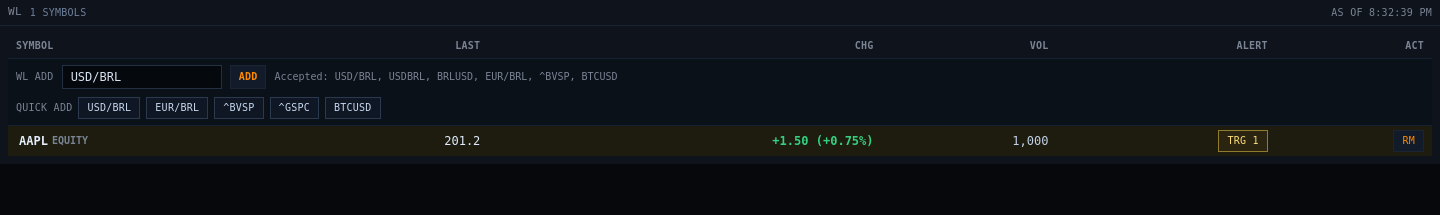
WatchlistPanel › supports quick-add preset flow
Click the button "USD/BRL" at (109, 108), box [78,96,140,118]
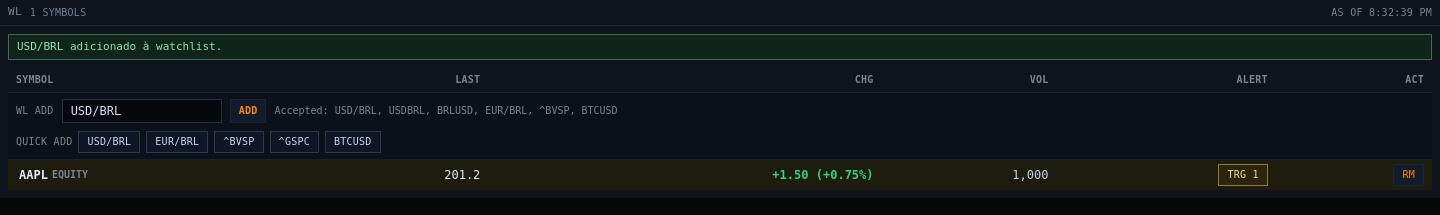
Check: the text "USD/BRL adicionado à watchlist." is shown, box [8,34,1432,60]
